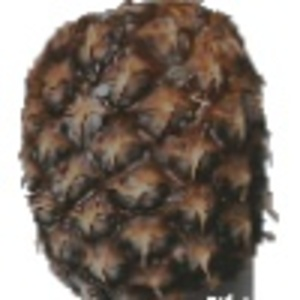abacaxi: (17, 3, 279, 296)
